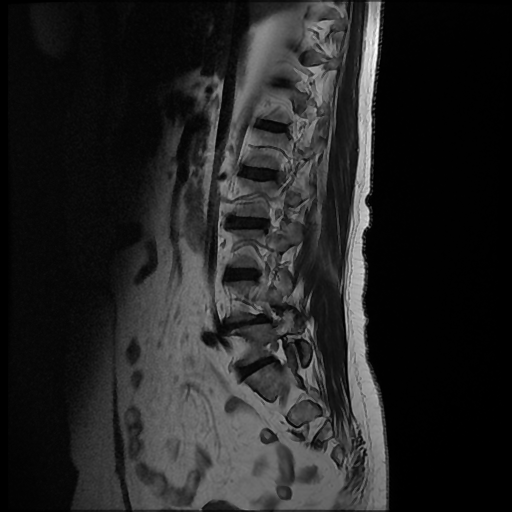RFS0: (254, 329, 302, 383)
